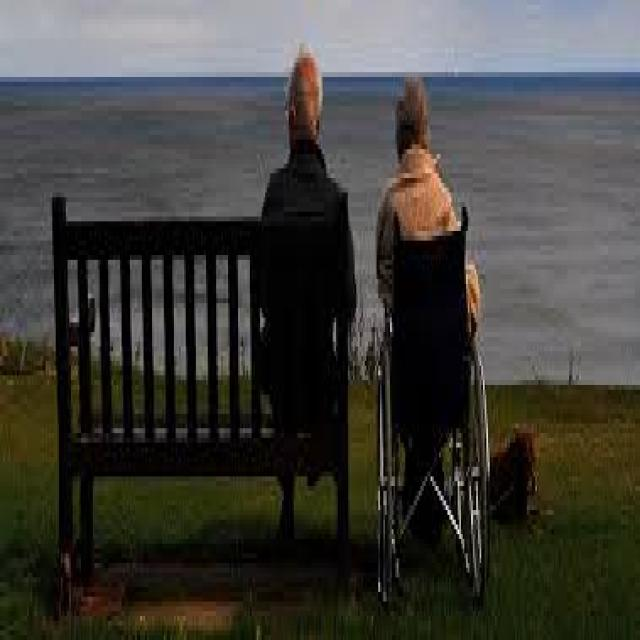wheelchairs: (370, 198, 495, 606)
